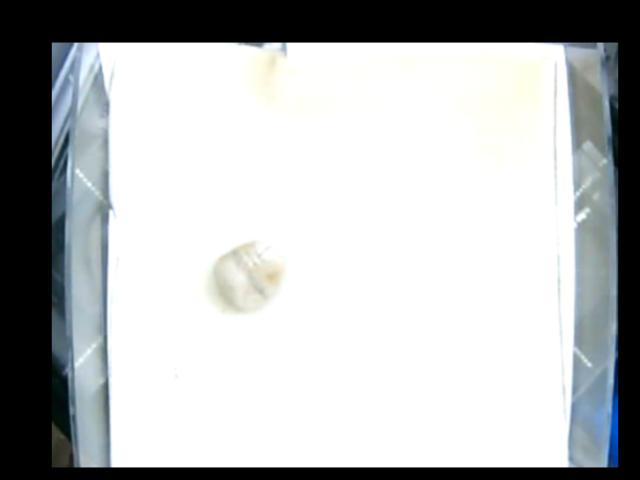Pebble: (211, 239, 285, 309)
